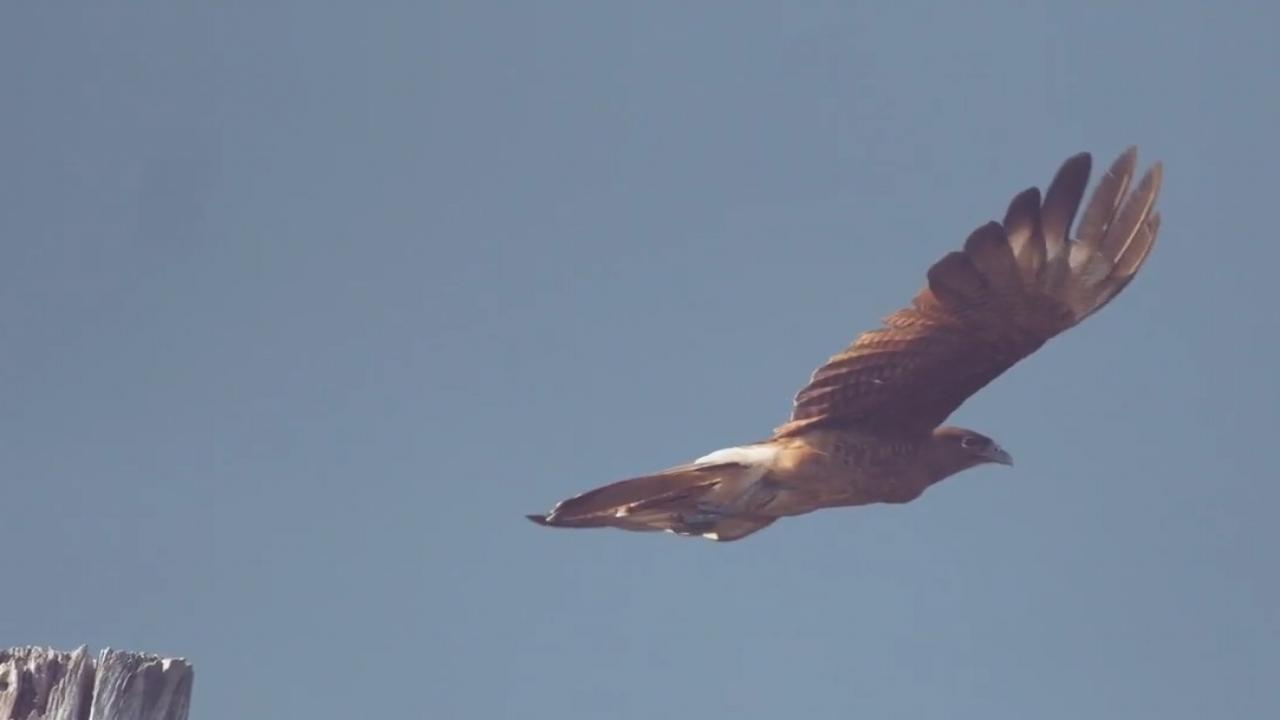Bird: (511, 133, 1176, 554)
